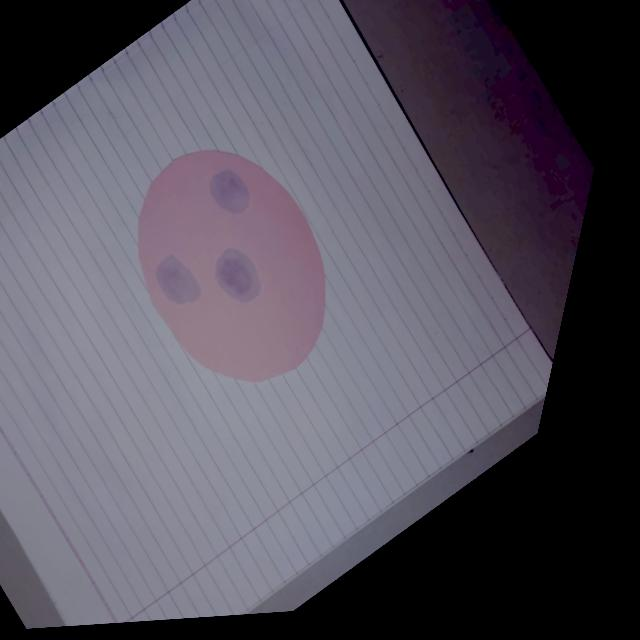BlueColor: (215, 248, 261, 303), (156, 254, 201, 304), (209, 169, 249, 213)
